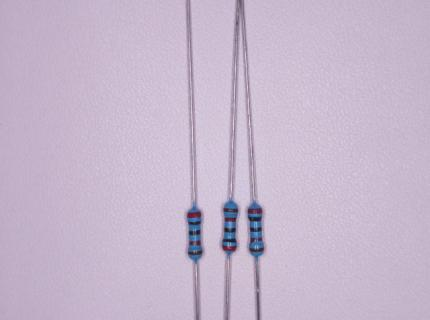Black band: (222, 238, 237, 243), (189, 229, 201, 235), (248, 216, 262, 221), (224, 227, 235, 233), (188, 221, 201, 226), (250, 227, 262, 232)
Brown band: (249, 247, 264, 253), (223, 207, 239, 212), (188, 250, 203, 255)
Red band: (187, 211, 202, 218), (222, 245, 237, 252), (248, 208, 263, 214), (250, 237, 263, 243), (189, 240, 201, 246), (225, 217, 236, 222)
